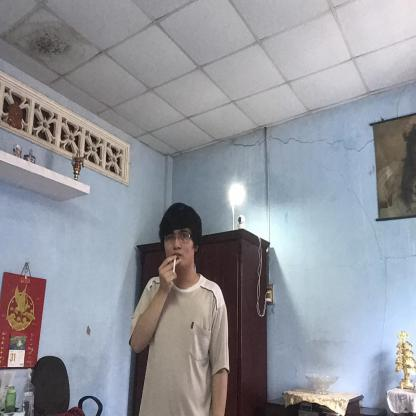cigarette: (172, 257, 177, 275)
person: (128, 203, 233, 416)
